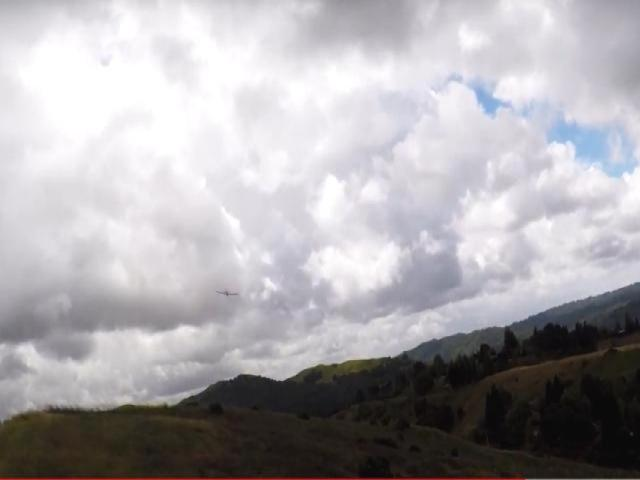iha: (217, 288, 240, 300)
